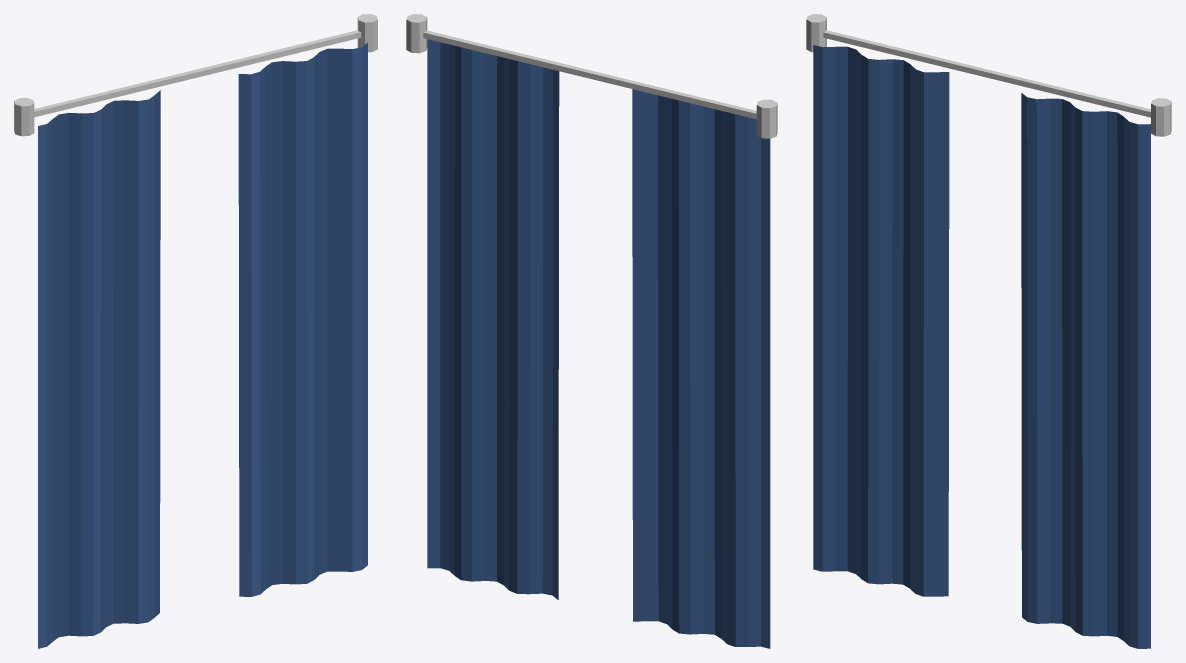
The model's file is curtains-blue.glb.
3 views of the same model, side by side, from view 1: azimuth 30°, elevation 25°; view 2: azimuth 150°, elevation 25°; view 3: azimuth 330°, elevation 25° (orthographic).
Visible parts, largest first — view 1: curtains-blue; view 2: curtains-blue; view 3: curtains-blue.
Part boxes in pixels (box(x1,y1,x2,y2)): curtains-blue: box(14, 14, 377, 648); curtains-blue: box(406, 14, 777, 648); curtains-blue: box(806, 14, 1171, 648).
Bounding box in the file's own units: 1.6 × 2.29 × 0.1093.
